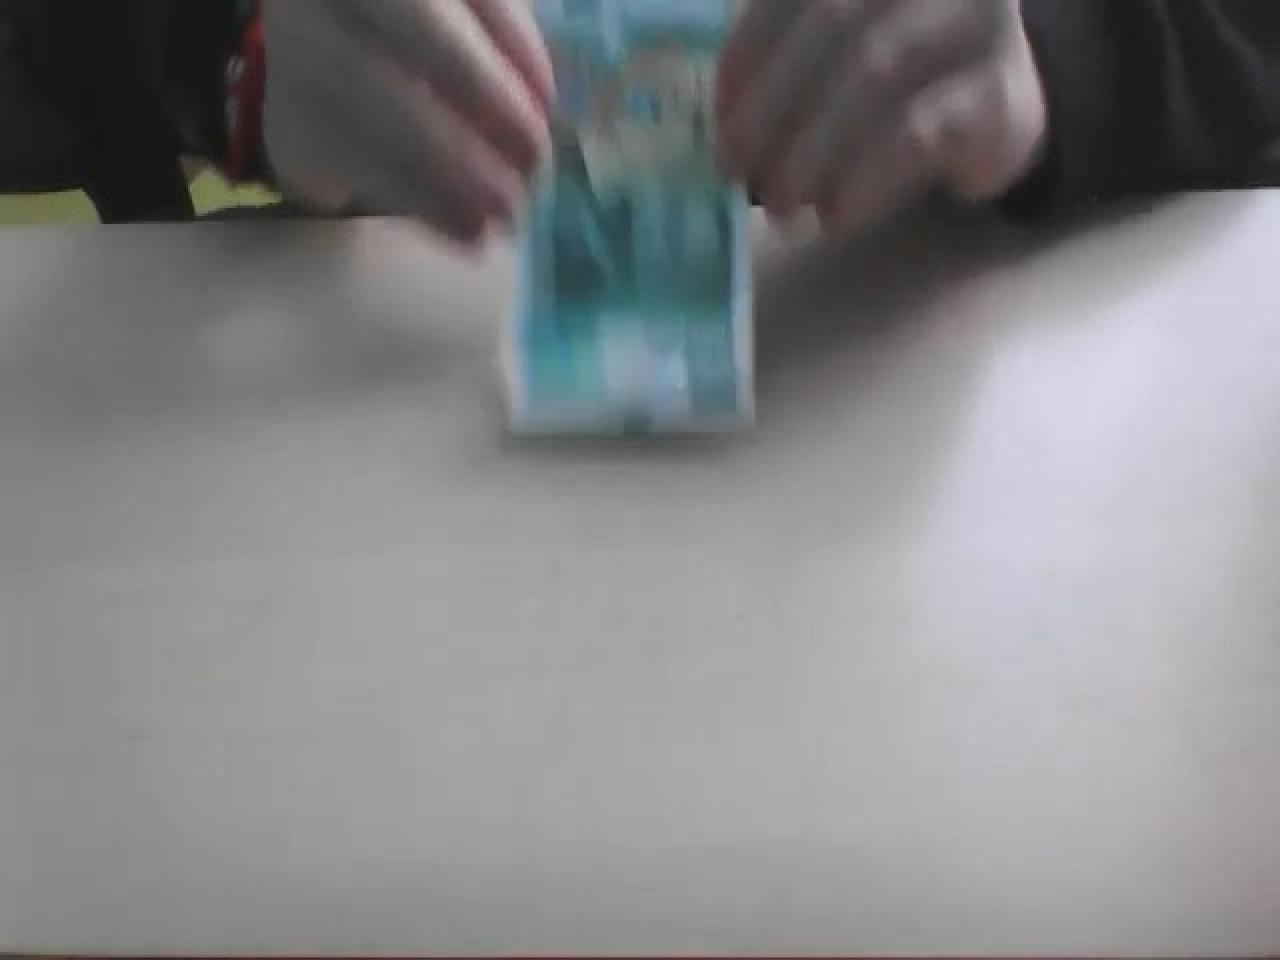100leva: (500, 3, 762, 441)
